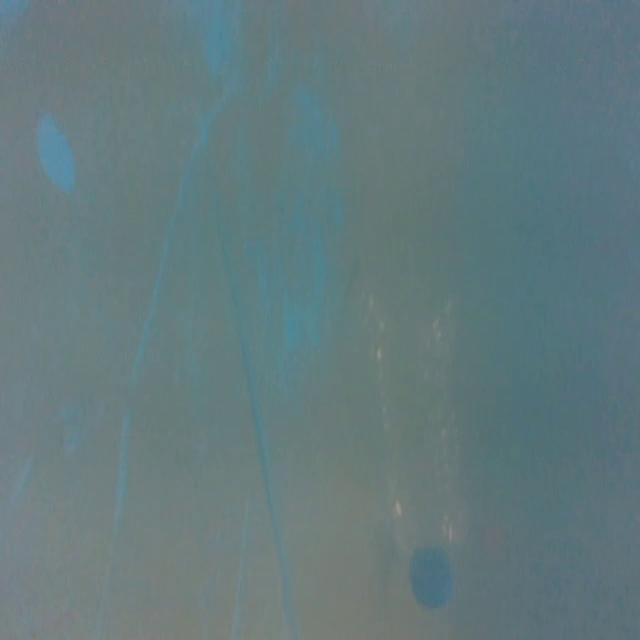plastic bottle: (353, 265, 481, 608)
